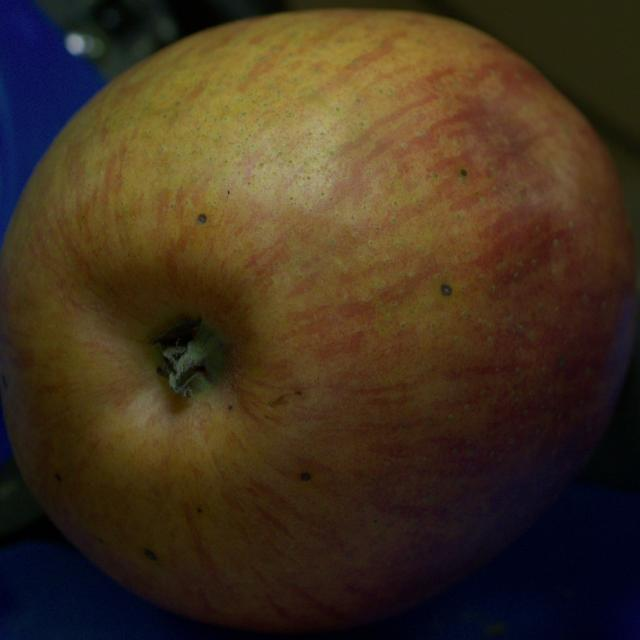apple: (0, 10, 636, 632)
bruise: (480, 224, 607, 347), (440, 88, 572, 199)
pest: (144, 549, 157, 561), (441, 284, 451, 296), (301, 472, 311, 481), (198, 214, 206, 223), (54, 473, 61, 481), (461, 169, 466, 176)
scratch: (269, 395, 286, 406)
